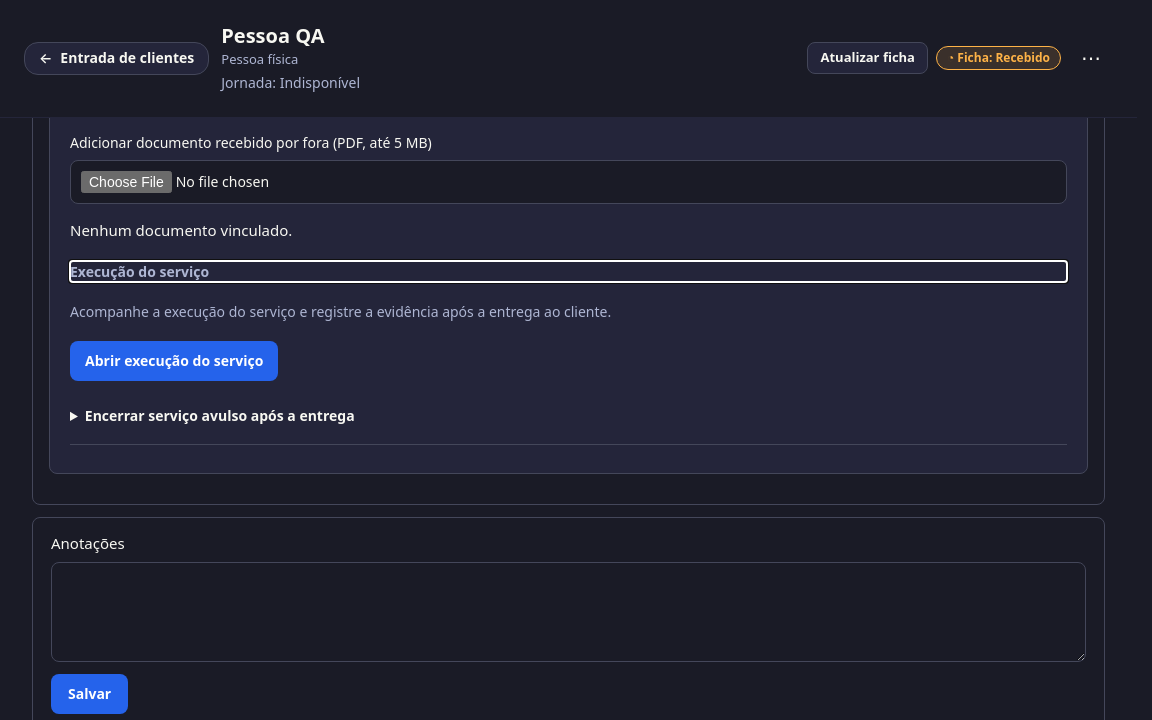
Test case: destino da jornada abre execução na ficha sem salvar nem concluir
The image size is (1152, 720).
(page scrolled)
Click the button "Abrir execução do serviço" at [174, 361], box [70, 341, 278, 381]
(page scrolled)
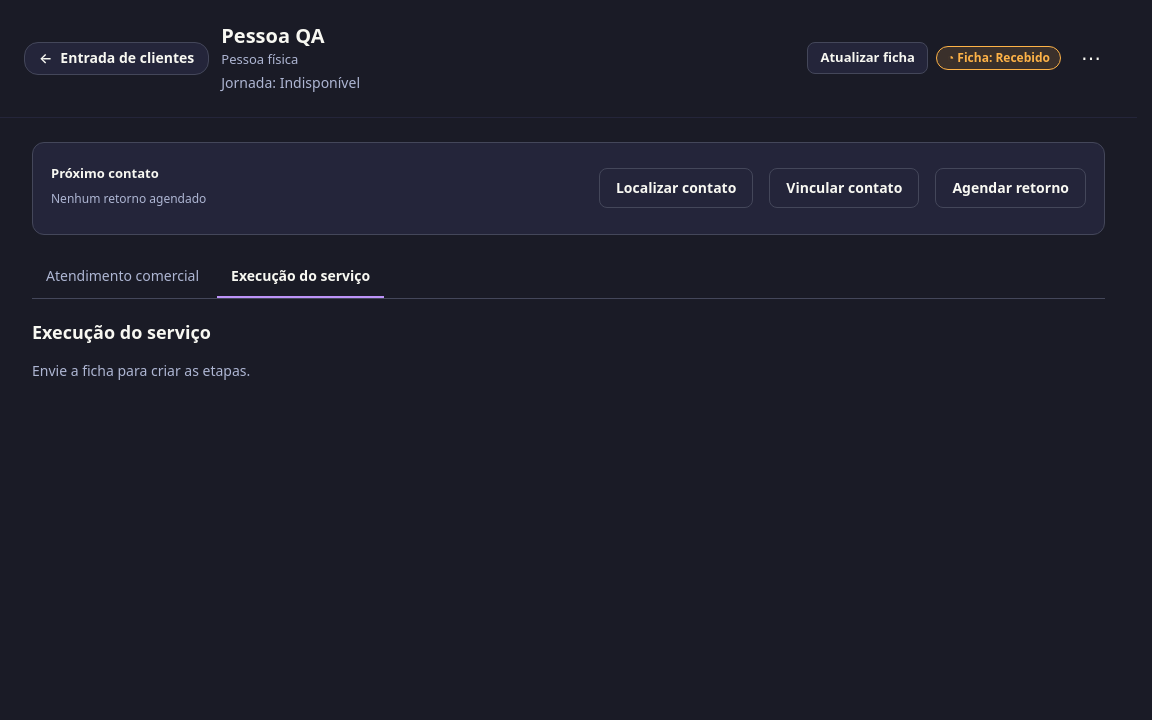
Result: the element "Execução do serviço" is shown at [32, 320, 250, 380]
